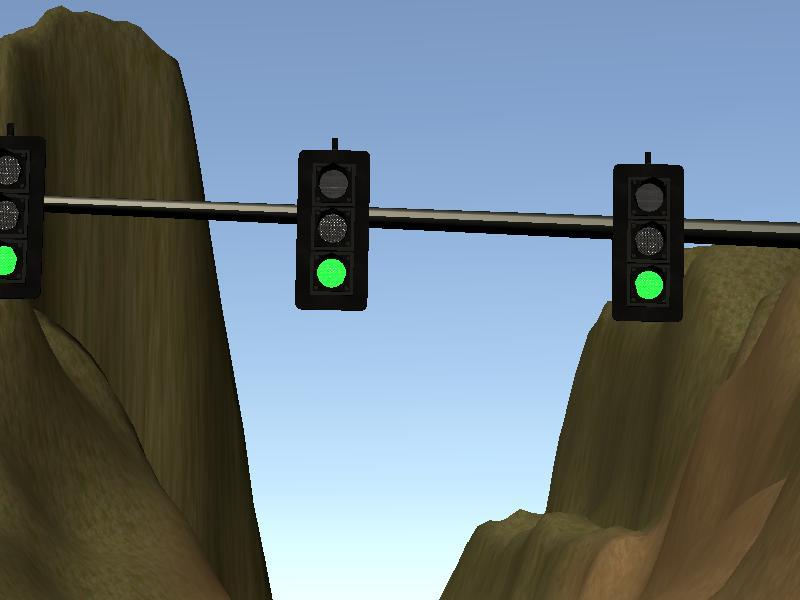Green: (297, 150, 367, 308), (614, 166, 682, 318), (1, 139, 36, 296)
